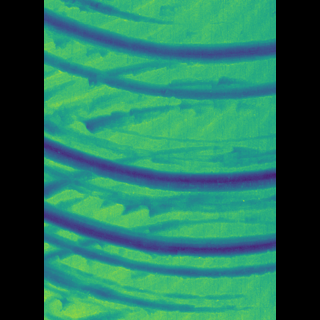Loch: (75, 132, 246, 320), (75, 4, 243, 71), (75, 45, 244, 104), (100, 98, 185, 138), (85, 0, 170, 30)
